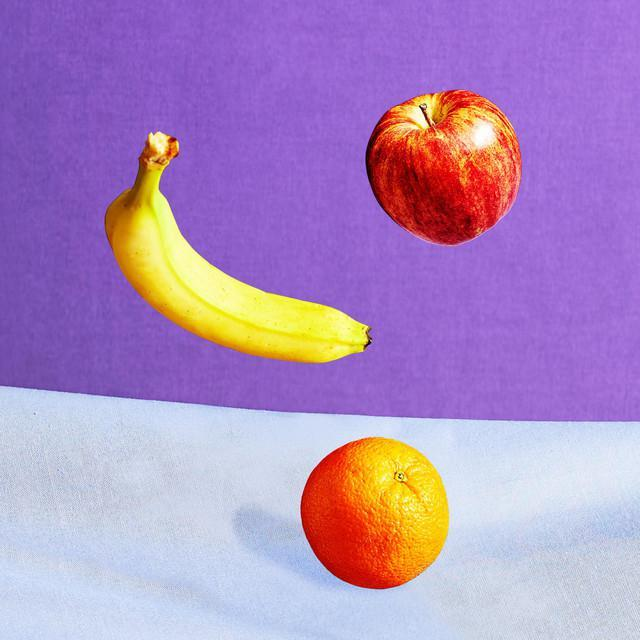Apple: (355, 86, 525, 249)
Banana: (106, 129, 383, 377)
Orange: (294, 426, 452, 591)
